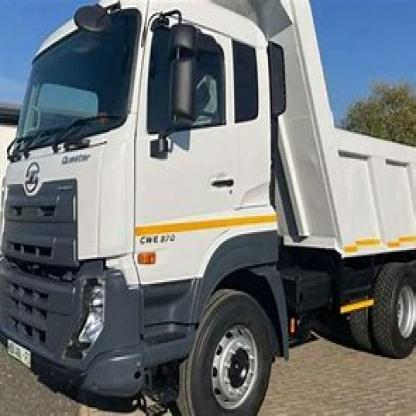dump_truck: (4, 2, 415, 410)
